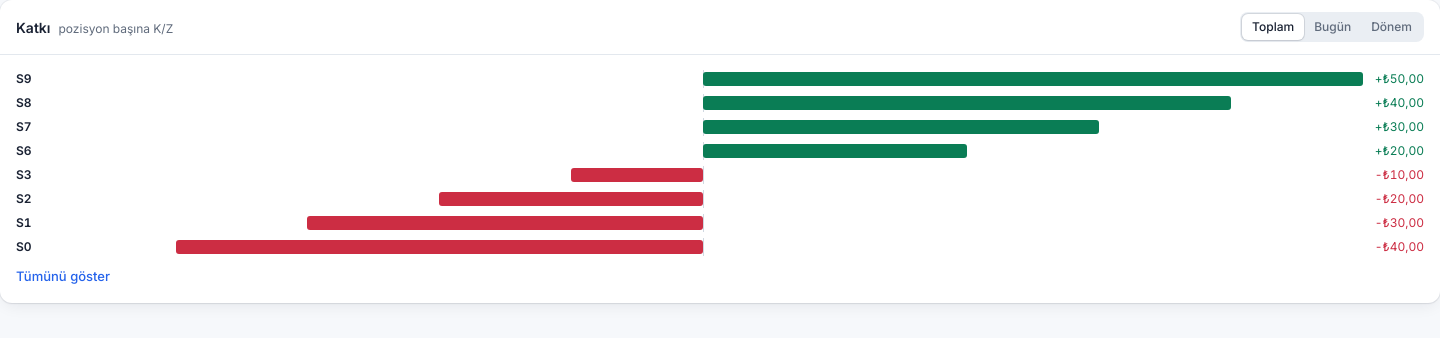
Test case: ContributionCard › shows the best four and the worst four and expands to all
Click the button "Tümünü göster". click: (63,277)
box: 16,267 -> 110,286
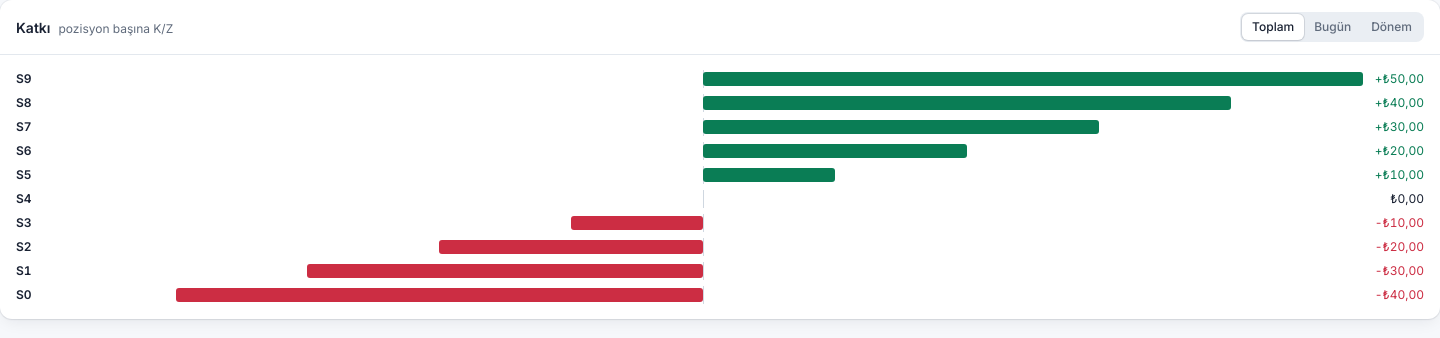
Now the number of list items is 10
Now the button "Tümünü göster" is gone
